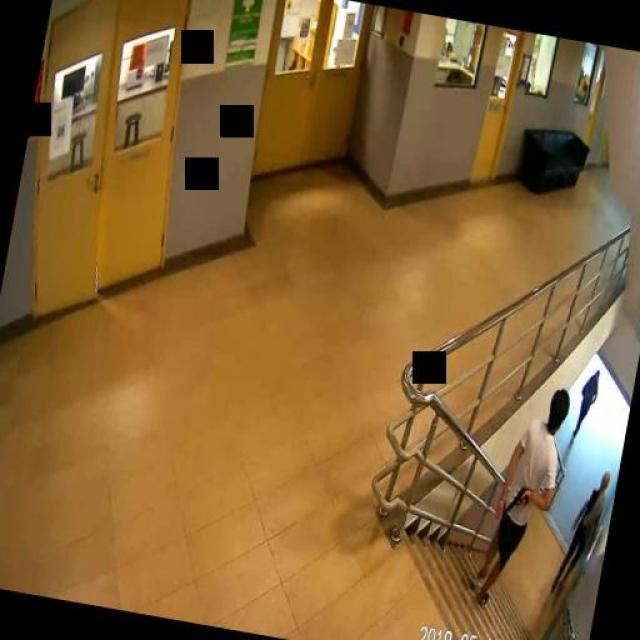gun: (505, 484, 529, 514)
